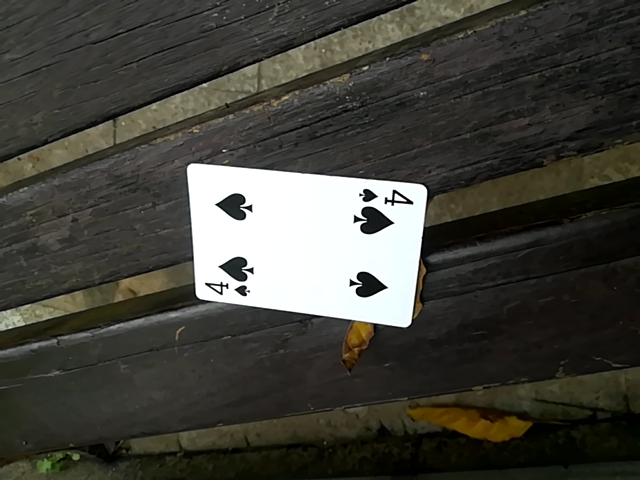ht 4: (174, 163, 423, 334)
